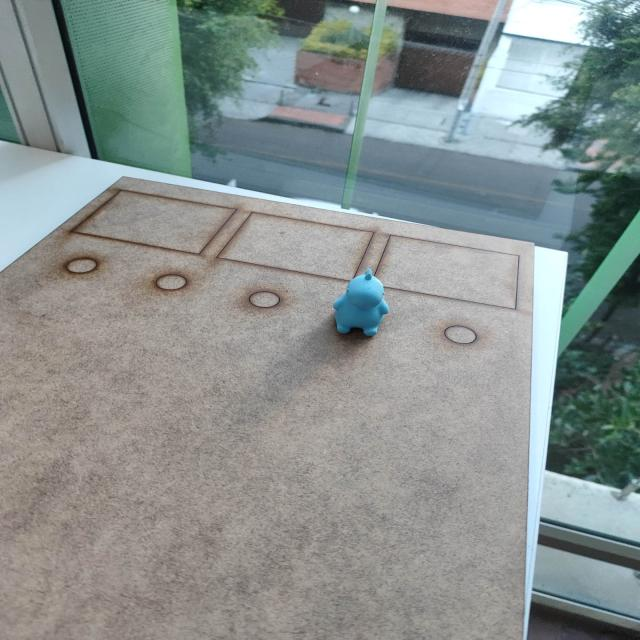DINO: (313, 263, 399, 357)
